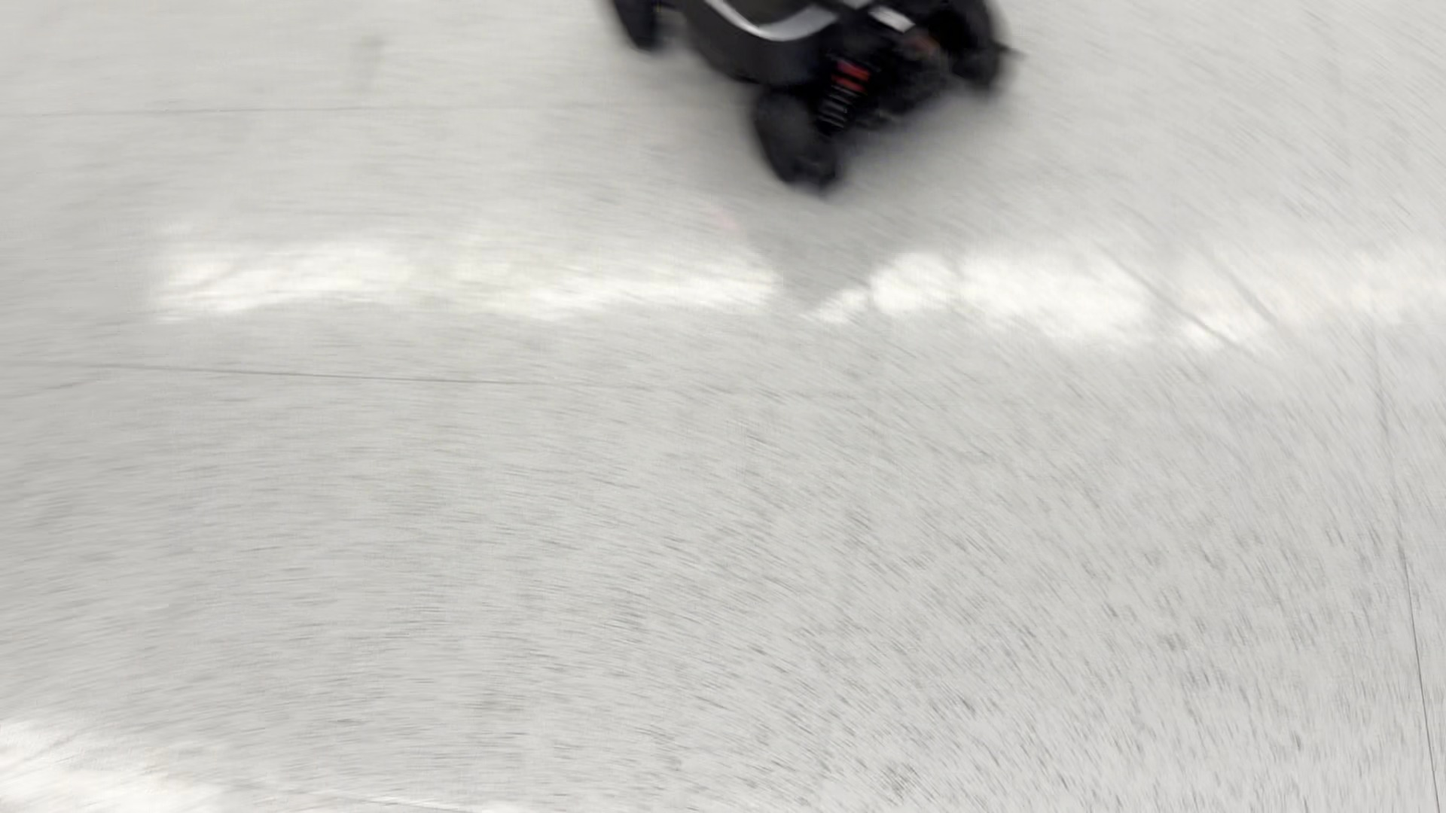racecar: (609, 0, 1011, 195)
